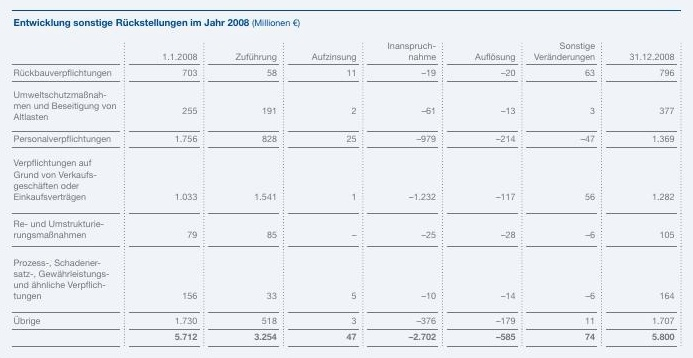table: (0, 0, 693, 358)
